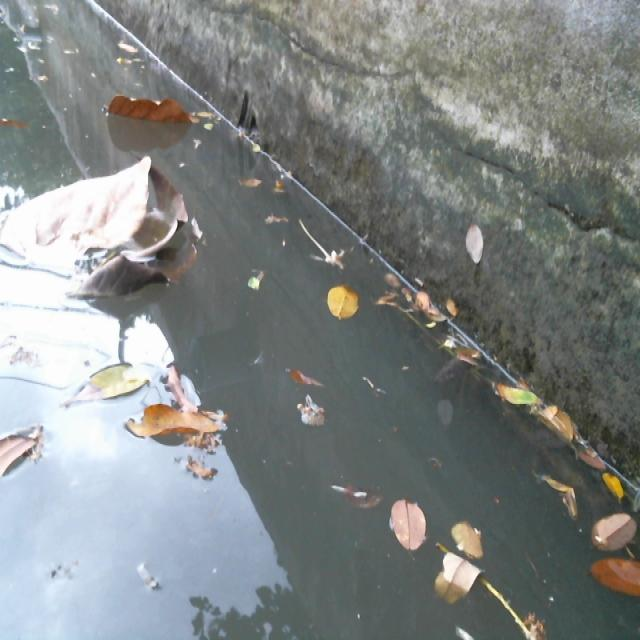Big-leaf: (0, 154, 205, 305), (99, 84, 201, 158), (122, 399, 232, 447), (62, 356, 152, 407), (0, 427, 57, 486)
Small-leaf: (428, 546, 489, 603), (384, 491, 432, 559), (587, 508, 638, 552), (589, 553, 640, 597), (489, 372, 542, 413), (446, 516, 493, 562), (322, 279, 364, 325), (283, 355, 326, 390)
